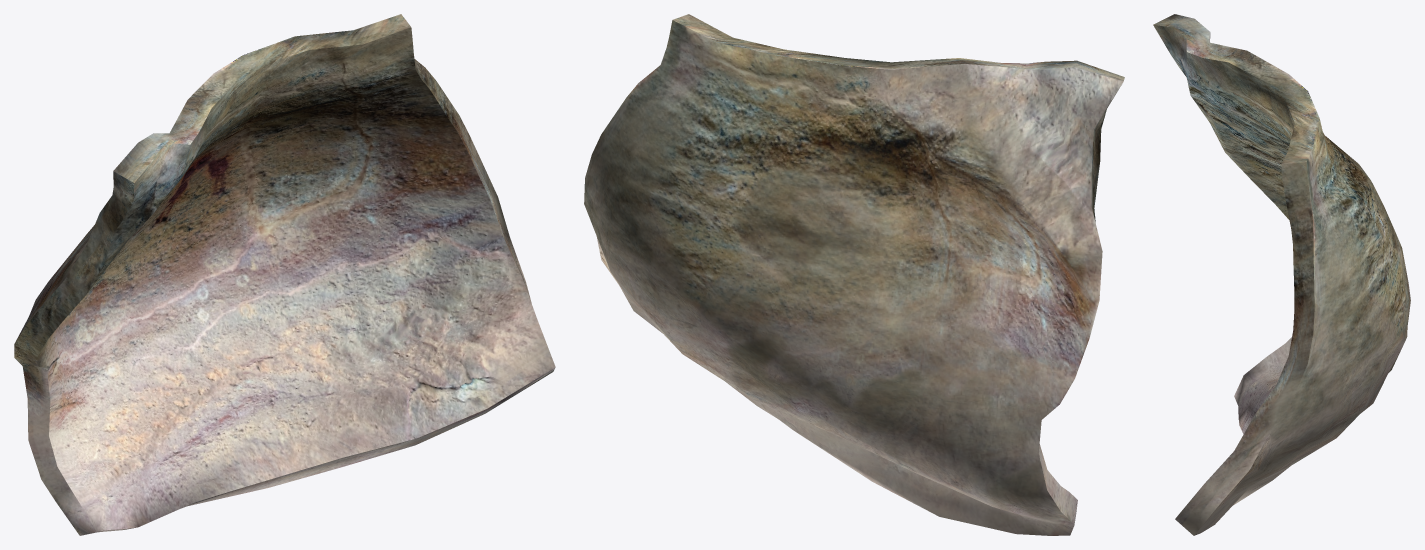
Rendered from Beijo.gltf.
The picture shows the model from 3 angles, left to right: view 1: azimuth 30°, elevation 25°; view 2: azimuth 150°, elevation 25°; view 3: azimuth 270°, elevation 25°; orthographic projection. The views are drawn at different scales.
Parts seen in each view (by area): view 1: AR_Beijo_Applied; view 2: AR_Beijo_Applied; view 3: AR_Beijo_Applied.
Part boxes in pixels (x1,y1,x2,y2): AR_Beijo_Applied: (14,14,555,535); AR_Beijo_Applied: (584,14,1124,535); AR_Beijo_Applied: (1153,14,1410,535).
Size of the model in its own units: 1.48 by 1.26 by 0.7127.
1 material, 1 textured.
